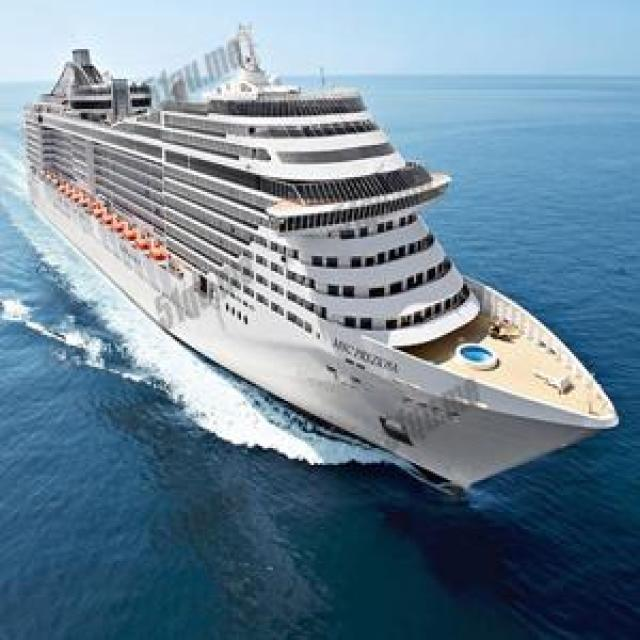passenger ship: (21, 16, 619, 488)
